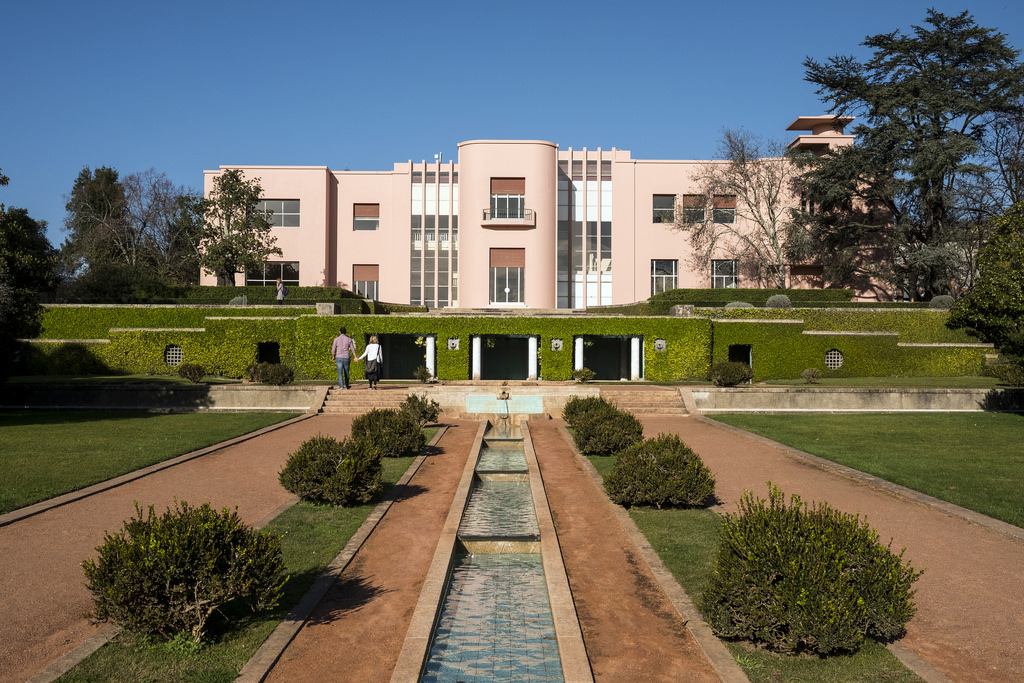serralves: (195, 112, 899, 310)
